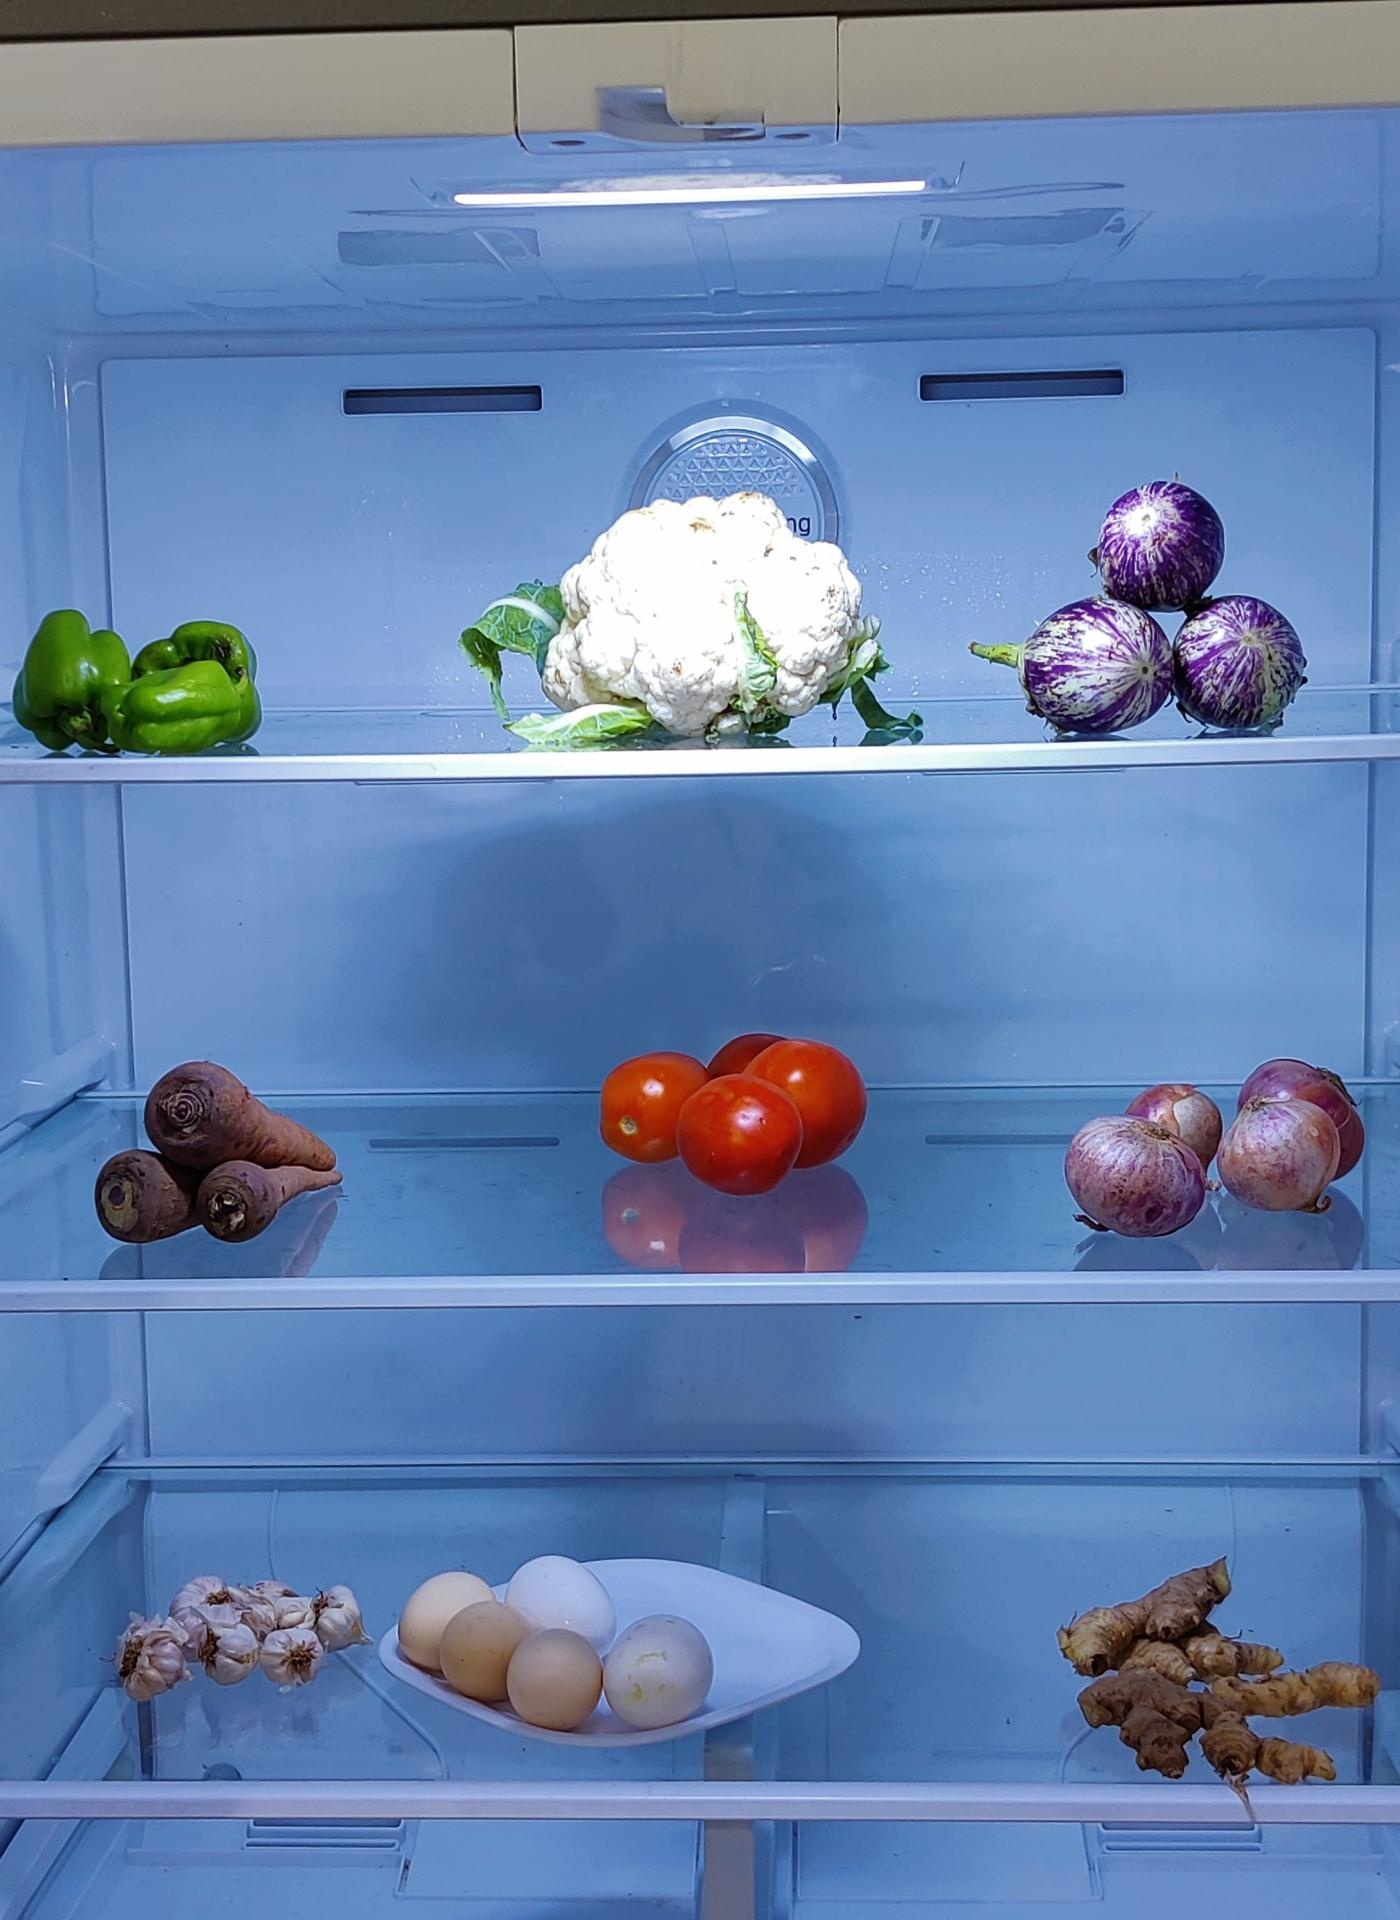brinjal: (1053, 498, 1322, 736)
capsicum: (10, 595, 271, 757)
carrots: (89, 1060, 343, 1255)
cauliflower: (543, 493, 877, 735)
egg: (409, 1558, 726, 1741)
garlic: (106, 1568, 364, 1693)
ginger: (1065, 1582, 1381, 1786)
onion: (1062, 1046, 1367, 1230)
tomato: (604, 1030, 877, 1190)
